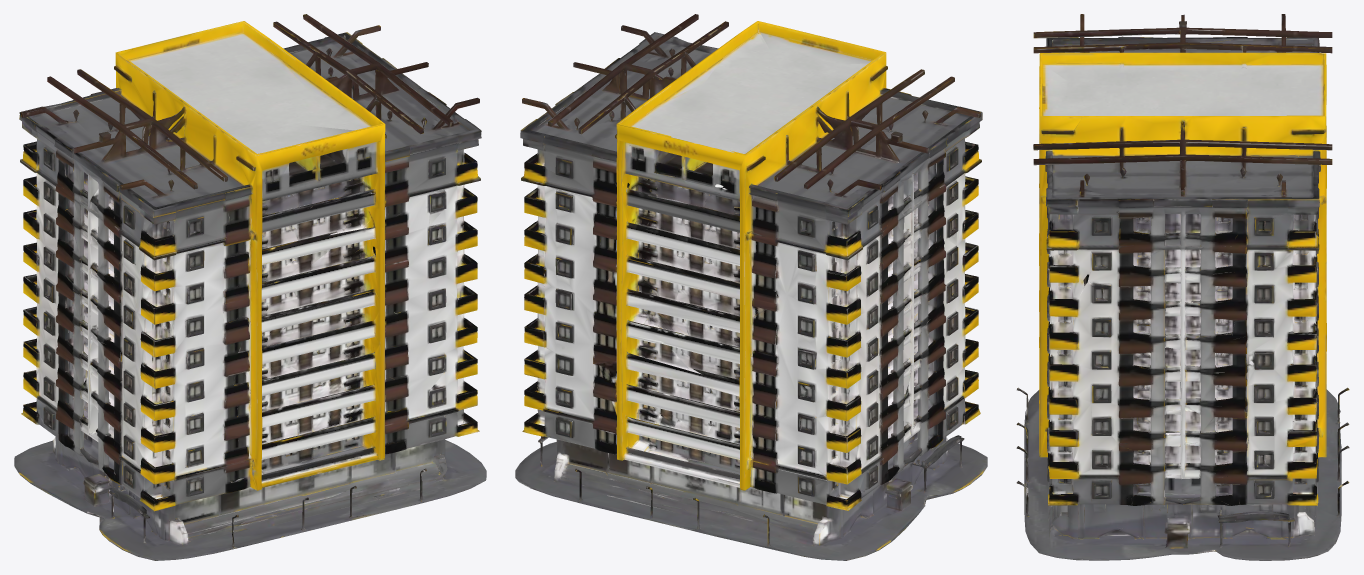
Rendered from sadebal-citylife.glb.
3 views of the same model, side by side, from view 1: azimuth 30°, elevation 25°; view 2: azimuth 150°, elevation 25°; view 3: azimuth 270°, elevation 25° (orthographic).
Parts seen in each view (by area): view 1: Mesh1.0; view 2: Mesh1.0; view 3: Mesh1.0.
Part boxes in pixels (x1,y1,x2,y2): Mesh1.0: (14,14,486,560); Mesh1.0: (515,14,987,560); Mesh1.0: (1016,14,1349,560).
Size of the model in its own units: 29.68 by 30 by 23.38.
1 material, 1 textured.
